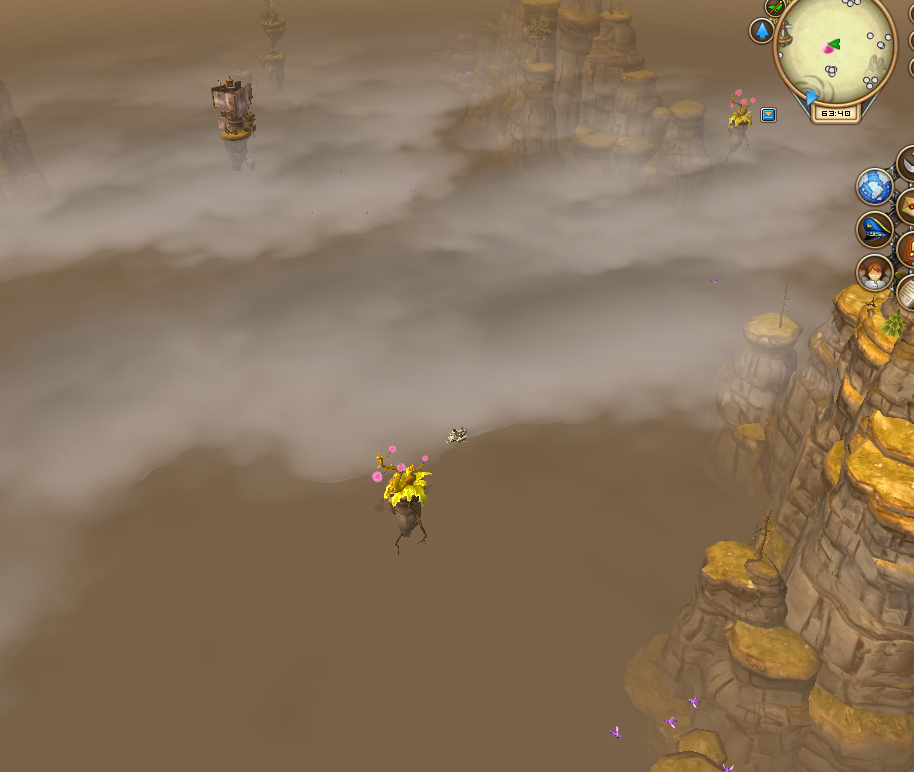dandelion-full: (367, 442, 439, 527), (722, 76, 761, 138)
